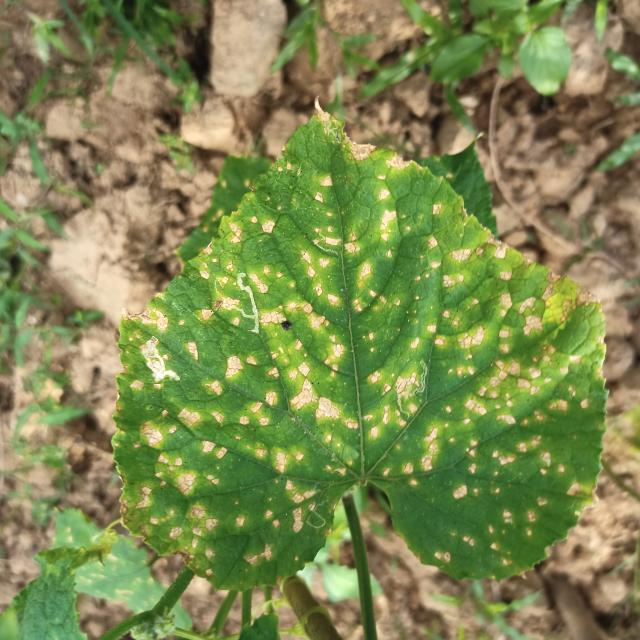disease_cucumber: (125, 168, 589, 570)
